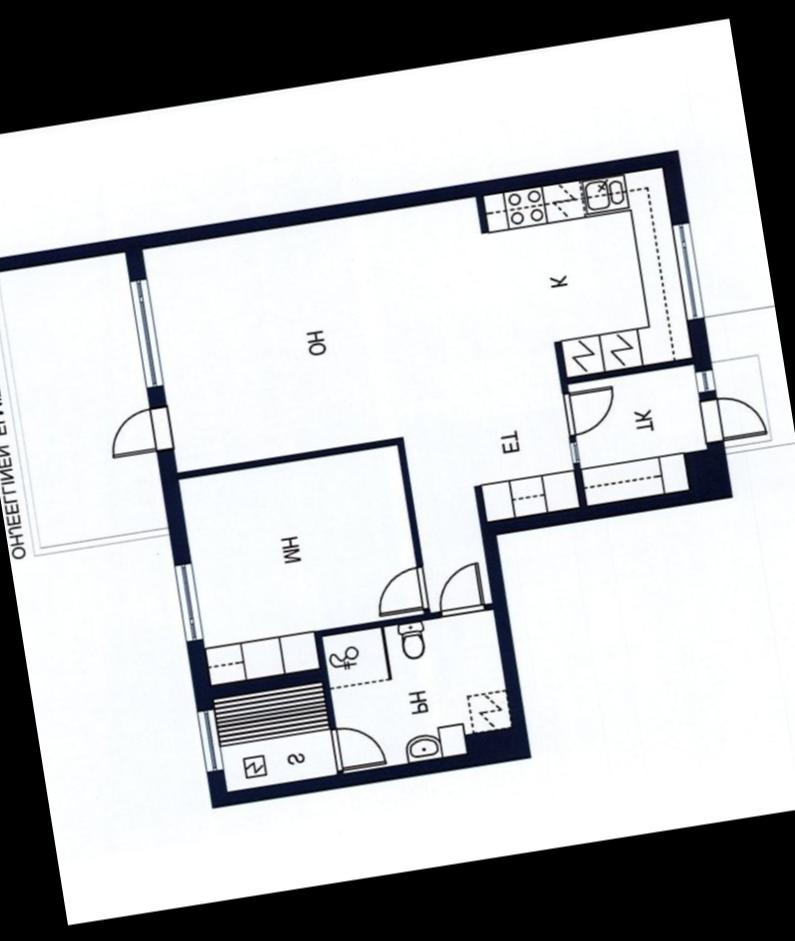door: (687, 386, 774, 454), (99, 400, 178, 464), (553, 375, 624, 443), (366, 558, 433, 623), (430, 553, 488, 627), (326, 715, 394, 778)
window: (116, 262, 171, 398), (660, 210, 714, 326), (166, 553, 204, 653), (187, 696, 228, 782), (689, 360, 722, 402)
